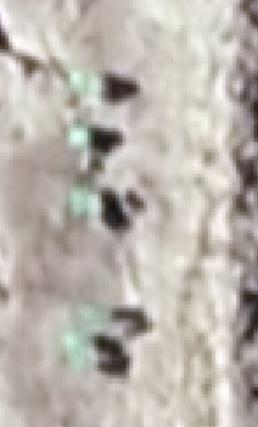cotton: (75, 187, 98, 214), (66, 337, 92, 360), (73, 71, 102, 91), (70, 123, 90, 146), (92, 308, 110, 322)
